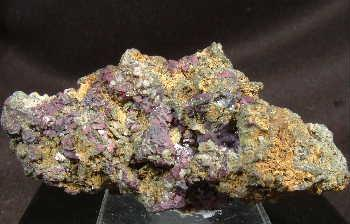cuprite: (148, 110, 194, 210), (47, 104, 80, 162), (167, 56, 198, 72), (220, 116, 238, 142), (17, 145, 42, 161), (134, 96, 152, 114), (22, 128, 40, 143), (102, 66, 115, 82)
